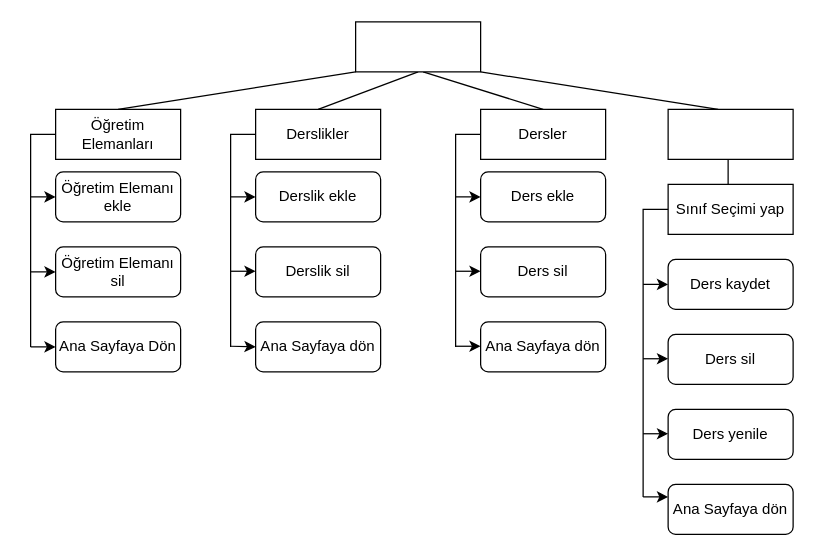
This 815x556 diagram has some shape labels left out. Here are the shapes that lost their labels. From the top down, the centre of each, then its label:
pixel 417 46: Ana Sayfa
pixel 730 133: Haftalık Ders Programı Oluştur
